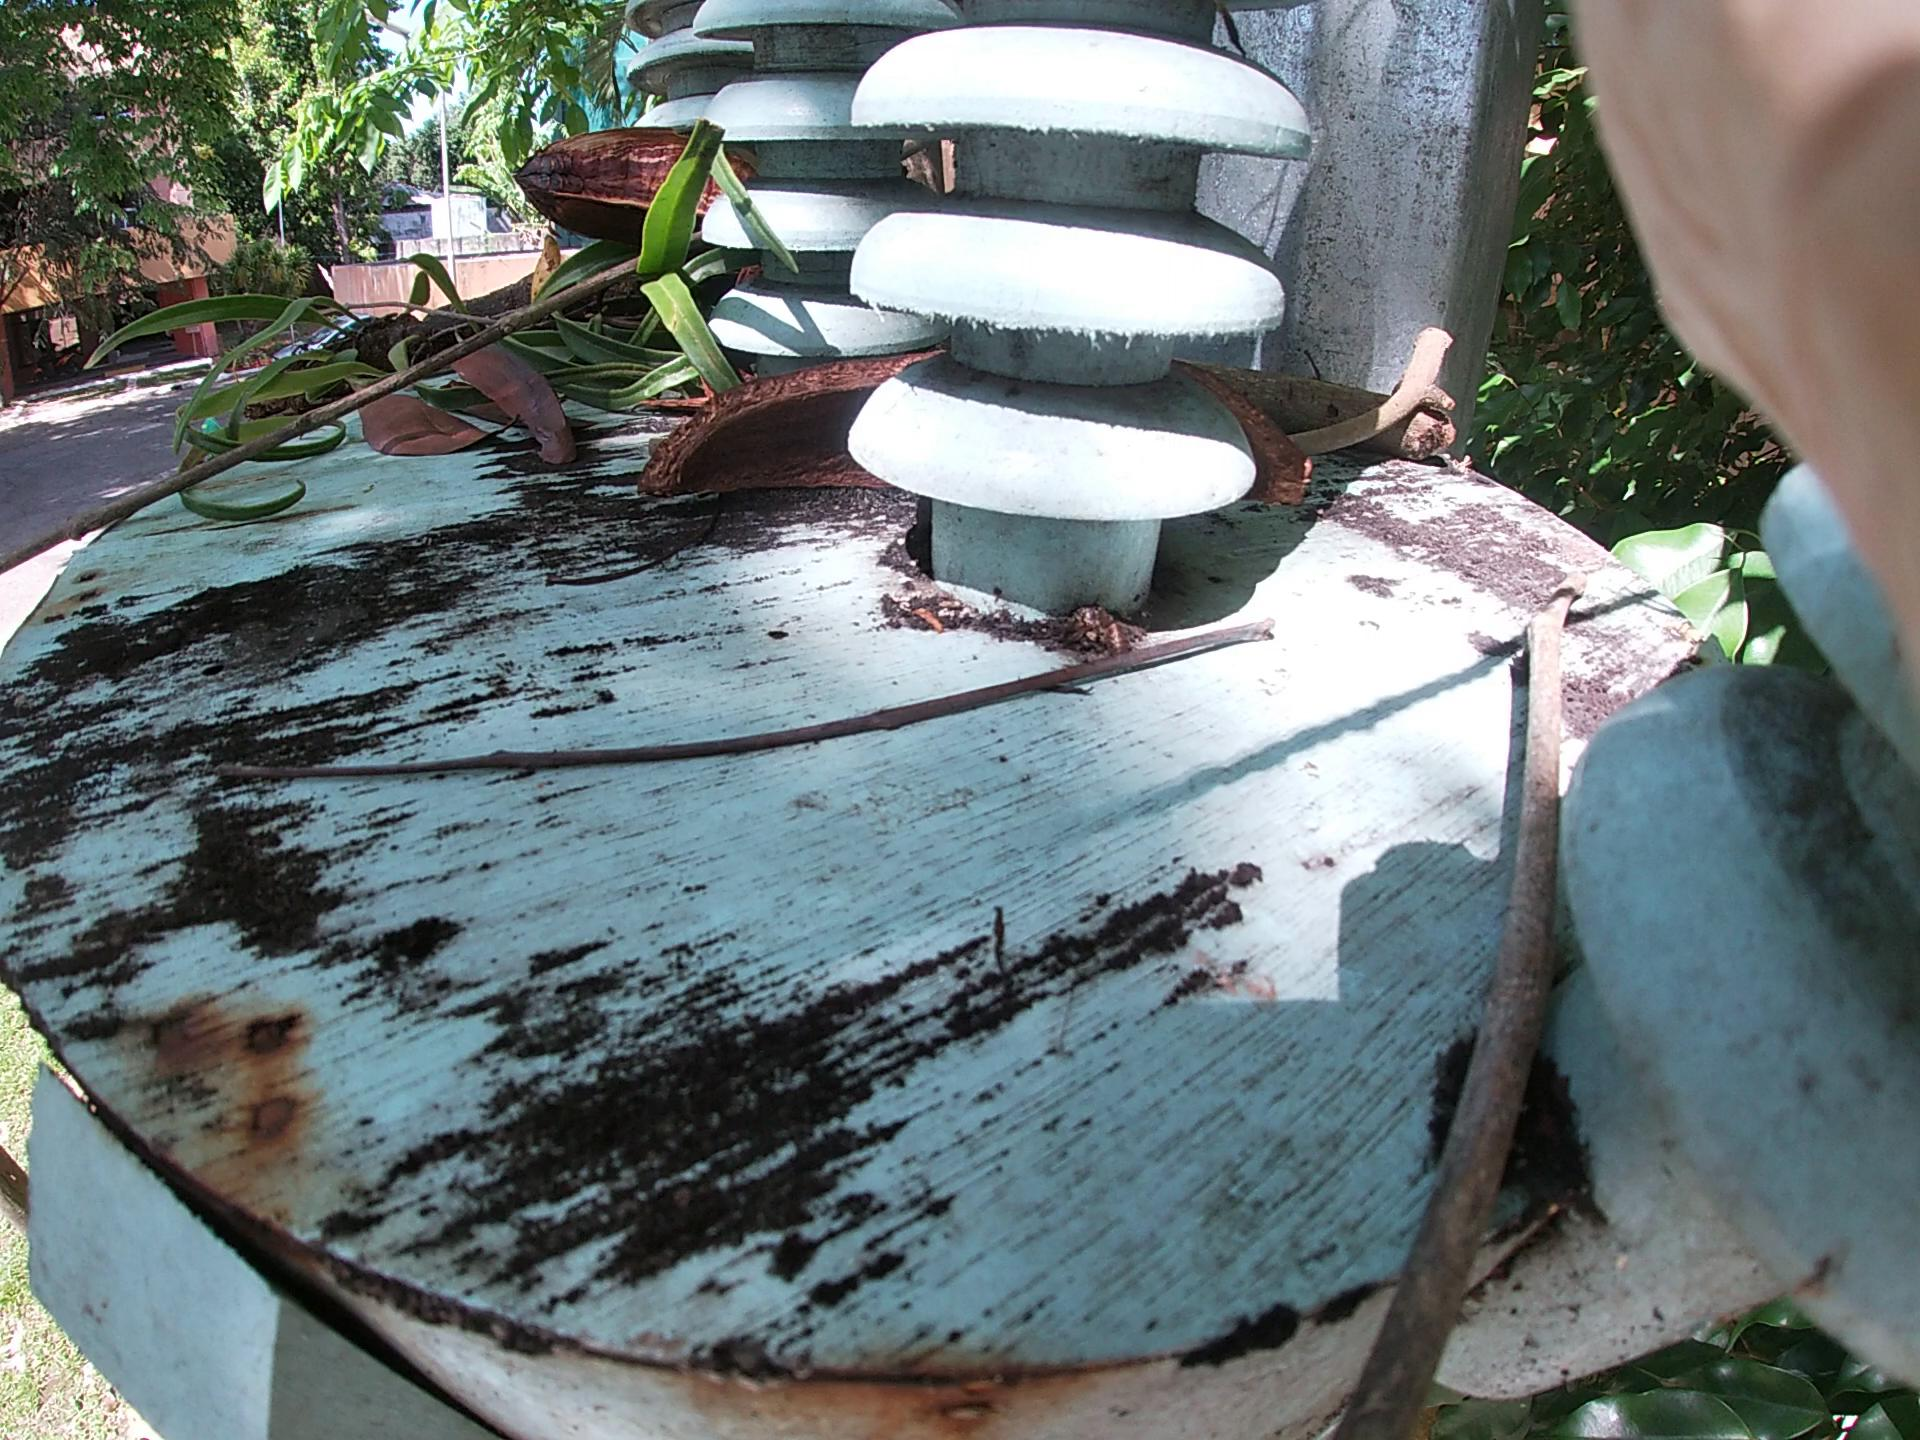branch with leaves: (292, 70, 730, 489)
leaf: (333, 365, 688, 510)
mahogany fruit: (311, 44, 816, 304), (639, 318, 1138, 522)
tree branch: (1411, 591, 1643, 1404), (88, 247, 701, 523), (296, 640, 1293, 729), (1299, 290, 1474, 483)
